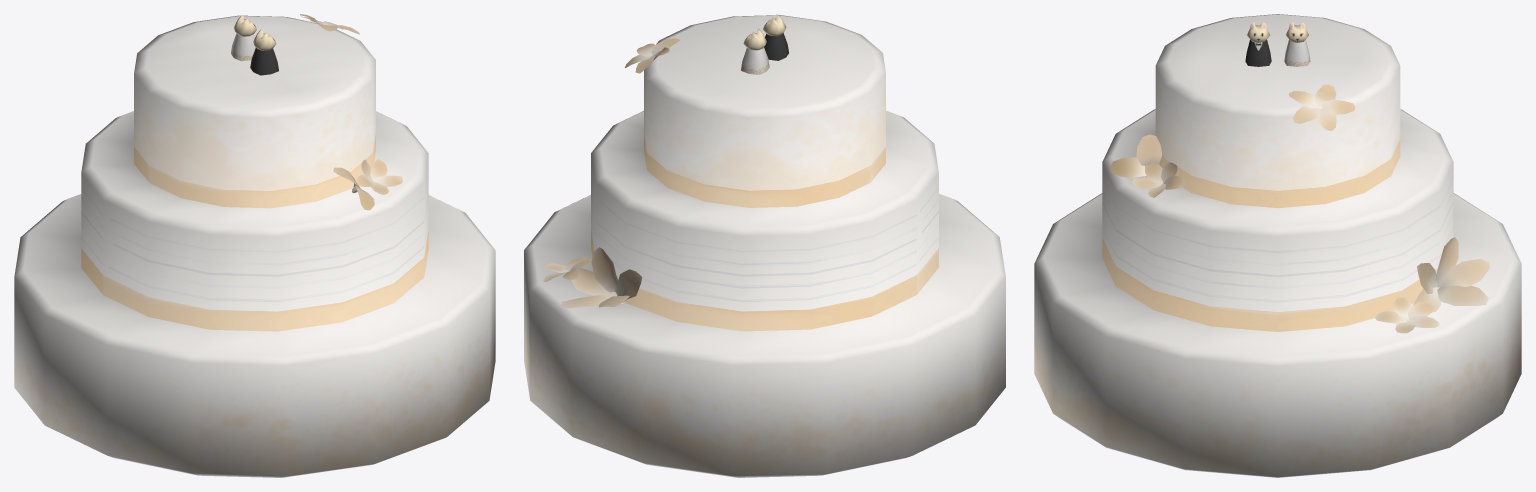
The model's file is cakePlain.gltf.
3 views of the same model, side by side, from view 1: azimuth 30°, elevation 25°; view 2: azimuth 150°, elevation 25°; view 3: azimuth 270°, elevation 25° (orthographic).
Parts seen in each view (by area): view 1: WeddingCake_Object; view 2: WeddingCake_Object; view 3: WeddingCake_Object.
Part boxes in pixels (x1,y1,x2,y2): WeddingCake_Object: (14, 14, 495, 477); WeddingCake_Object: (524, 14, 1005, 477); WeddingCake_Object: (1034, 14, 1521, 477).
Bounding box in the file's own units: 1.82 × 1.47 × 1.82.
